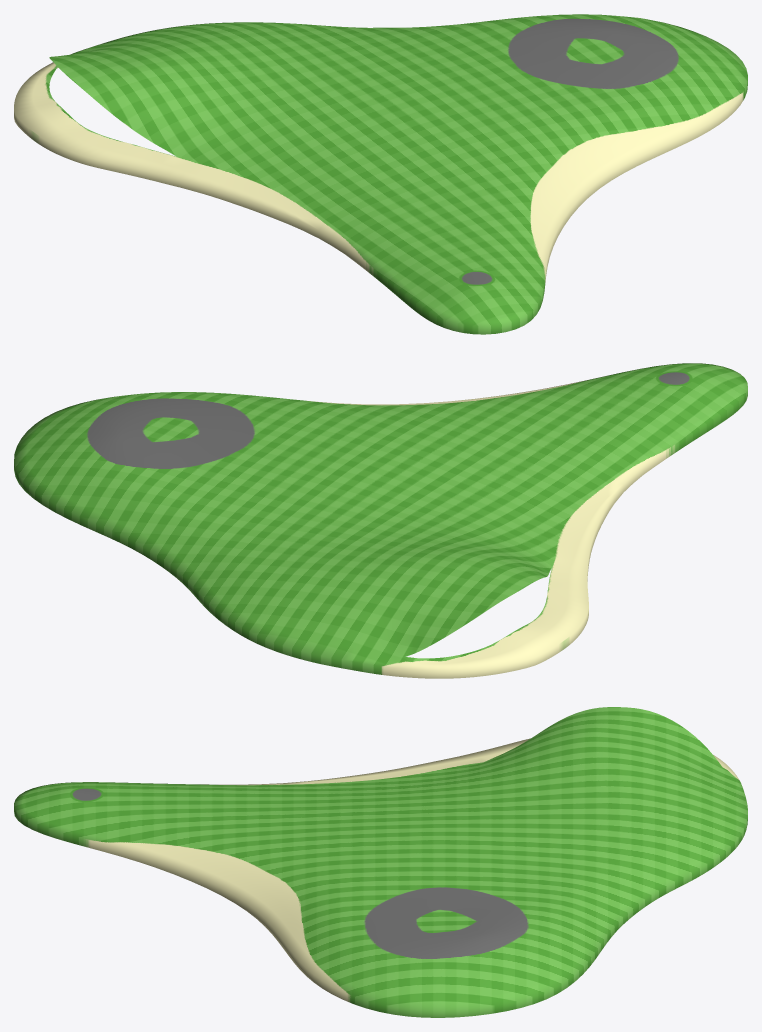
Rendered from Island 1.fbx.
The picture shows the model from 3 angles, top to bottom: view 1: azimuth 30°, elevation 25°; view 2: azimuth 150°, elevation 25°; view 3: azimuth 270°, elevation 25°; orthographic projection. The views are drawn at different scales.
Visible parts, largest first — view 1: Island; view 2: Island; view 3: Island.
Part boxes in pixels (x1,y1,x2,y2): Island: (14, 14, 747, 334); Island: (14, 363, 747, 678); Island: (14, 707, 747, 1017).
Size of the model in its own units: 83274 by 7089 by 92524.
